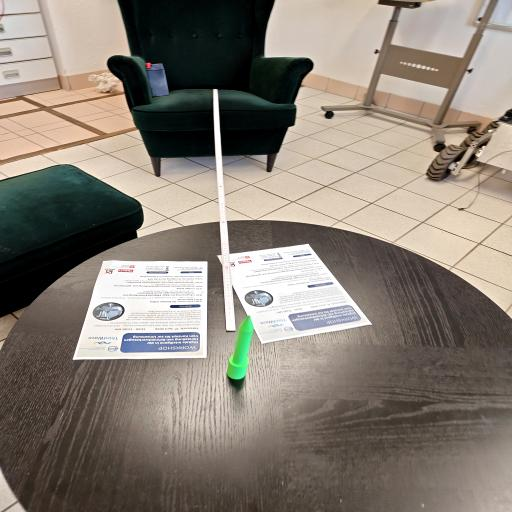Probe-Detection: (226, 314, 254, 380)
